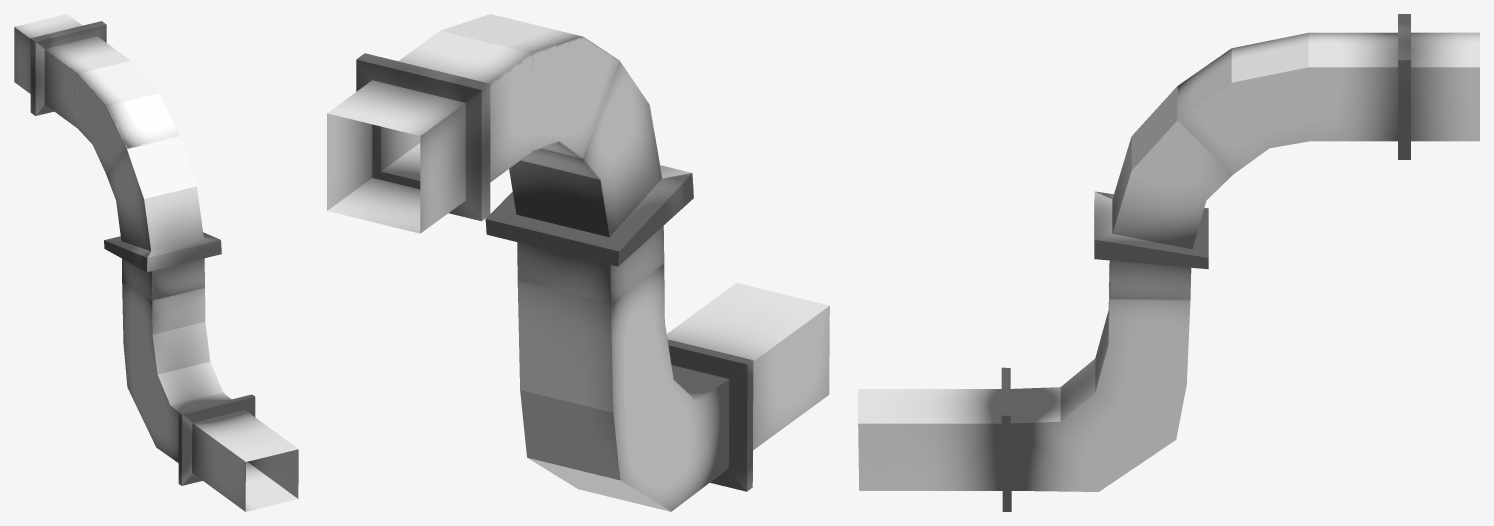
The model's file is Vent1.fbx.
3 renders of one model, left to right at view 1: azimuth 30°, elevation 25°; view 2: azimuth 150°, elevation 25°; view 3: azimuth 270°, elevation 25°, orthographic. The views are drawn at different scales.
Visible parts, largest first — view 1: _ConstrucSteelAndAirway; view 2: _ConstrucSteelAndAirway; view 3: _ConstrucSteelAndAirway.
Boxes of the visible parts, x1,y1,x2,y2 form: _ConstrucSteelAndAirway: (14,14,298,511); _ConstrucSteelAndAirway: (327,14,829,511); _ConstrucSteelAndAirway: (858,14,1479,511).
Bounding box in the file's own units: 344 × 1460 × 1826.
1 material, 1 textured.
